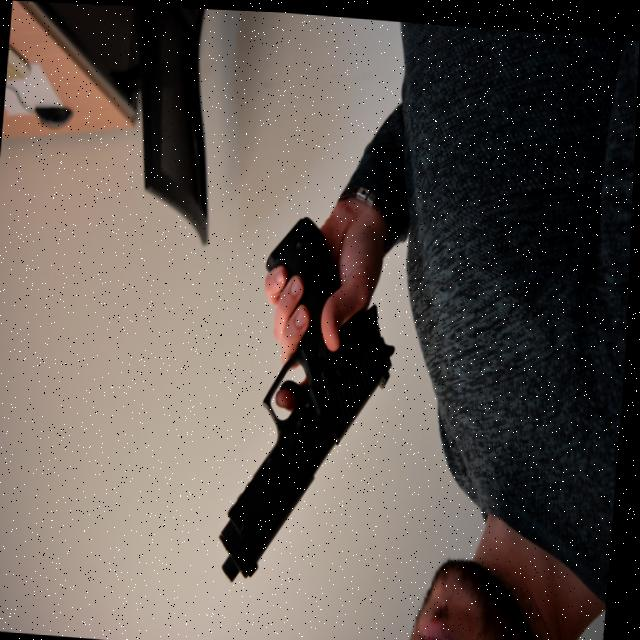pistol: (216, 287, 400, 588)
